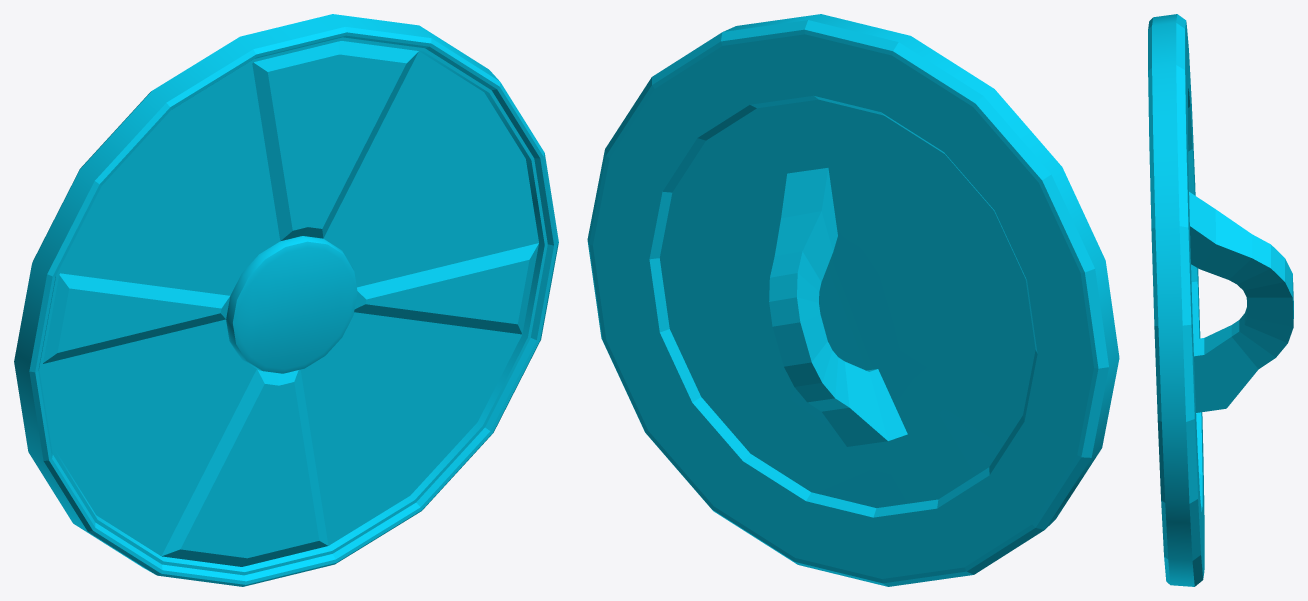
File: roundshield1_low.fbx
The picture shows the model from 3 angles, left to right: view 1: azimuth 30°, elevation 25°; view 2: azimuth 150°, elevation 25°; view 3: azimuth 270°, elevation 25°; orthographic projection. The views are drawn at different scales.
Visible parts, largest first — view 1: ShieldVar1_low; view 2: ShieldVar1_low; view 3: ShieldVar1_low.
Part boxes in pixels (x1,y1,x2,y2): ShieldVar1_low: (14, 14, 558, 586); ShieldVar1_low: (587, 14, 1119, 586); ShieldVar1_low: (1148, 14, 1293, 586).
Bounding box in the file's own units: 1085 × 1068 × 275.
